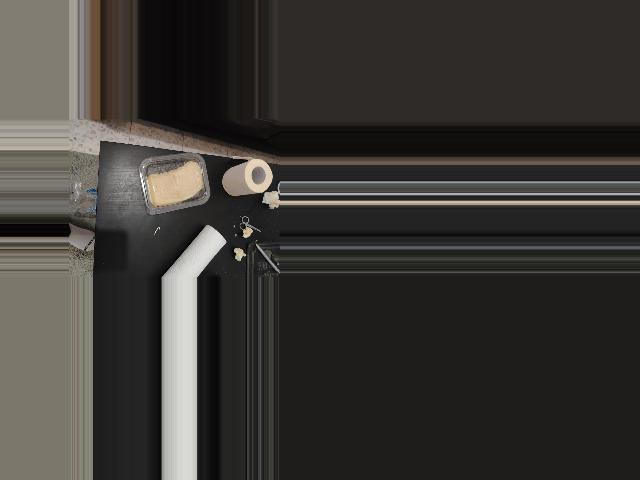cheese: (138, 157, 210, 212)
